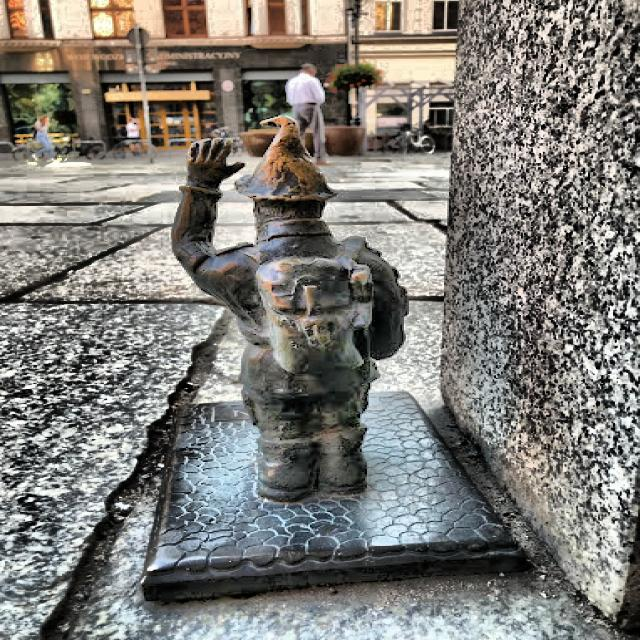Weteran: (174, 116, 407, 501)
